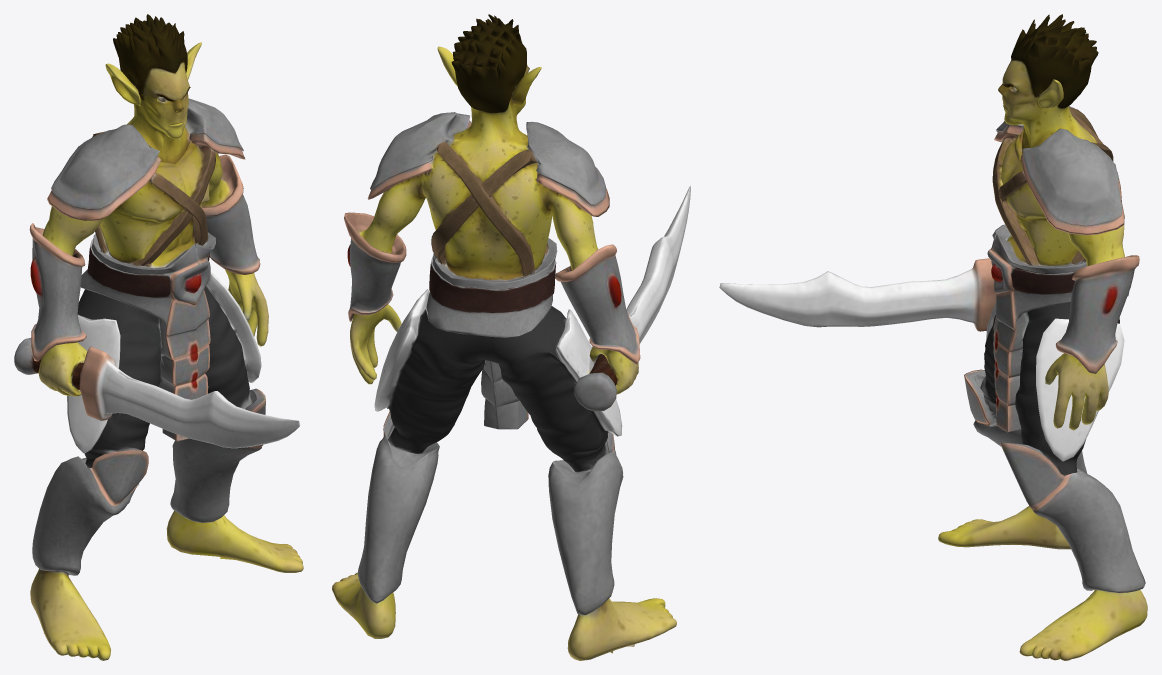
The model's file is MZ4250 - Githyanki Warrior.glb.
3 views of the same model, side by side, from view 1: azimuth 30°, elevation 25°; view 2: azimuth 150°, elevation 25°; view 3: azimuth 270°, elevation 25° (orthographic). The views are drawn at different scales.
Visible parts, largest first — view 1: default; view 2: default; view 3: default.
Boxes of the visible parts, x1=… form: default: x1=14, y1=14, x2=303, y2=660; default: x1=332, y1=14, x2=690, y2=660; default: x1=719, y1=14, x2=1147, y2=660.
Size of the model in its own units: 0.5663 by 1.11 by 0.7527.
Materials: 1 (1 with a texture image).
